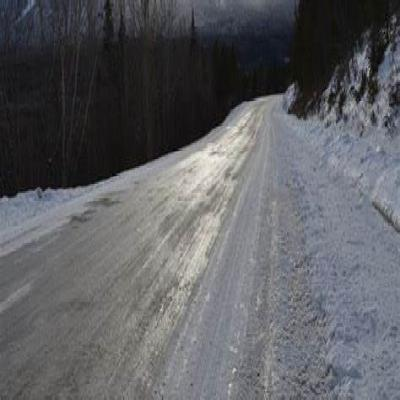iced-road: (0, 98, 273, 400)
